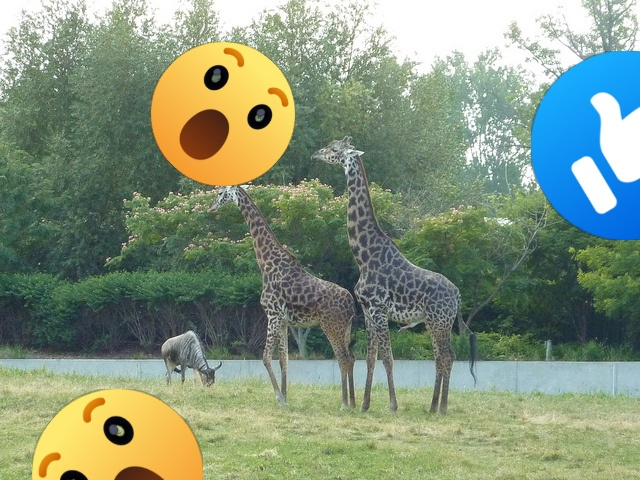like: (531, 51, 640, 240)
wow: (151, 42, 295, 186), (32, 389, 203, 480)
